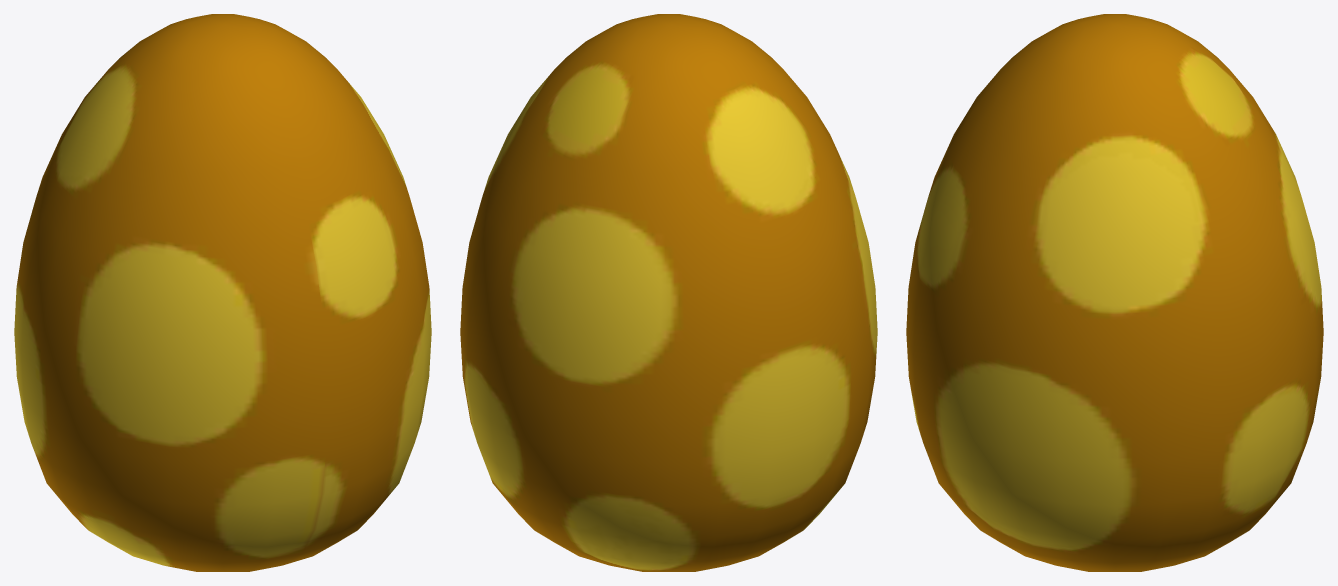
The model's file is egg01.fbx.
3 views of the same model, side by side, from view 1: azimuth 30°, elevation 25°; view 2: azimuth 150°, elevation 25°; view 3: azimuth 270°, elevation 25° (orthographic).
Parts seen in each view (by area): view 1: egg01_model; view 2: egg01_model; view 3: egg01_model.
Part boxes in pixels (x1,y1,x2,y2): egg01_model: (14, 14, 431, 571); egg01_model: (460, 14, 877, 571); egg01_model: (906, 14, 1323, 571).
Bounding box in the file's own units: 0.2909 × 0.4002 × 0.2909.
Materials: 1 (1 with a texture image).
